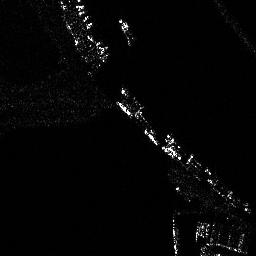ship: (207, 173, 249, 208), (86, 33, 113, 57), (72, 1, 94, 30), (118, 86, 144, 110), (165, 132, 187, 157), (188, 154, 212, 176), (118, 18, 135, 46), (169, 219, 181, 254)
